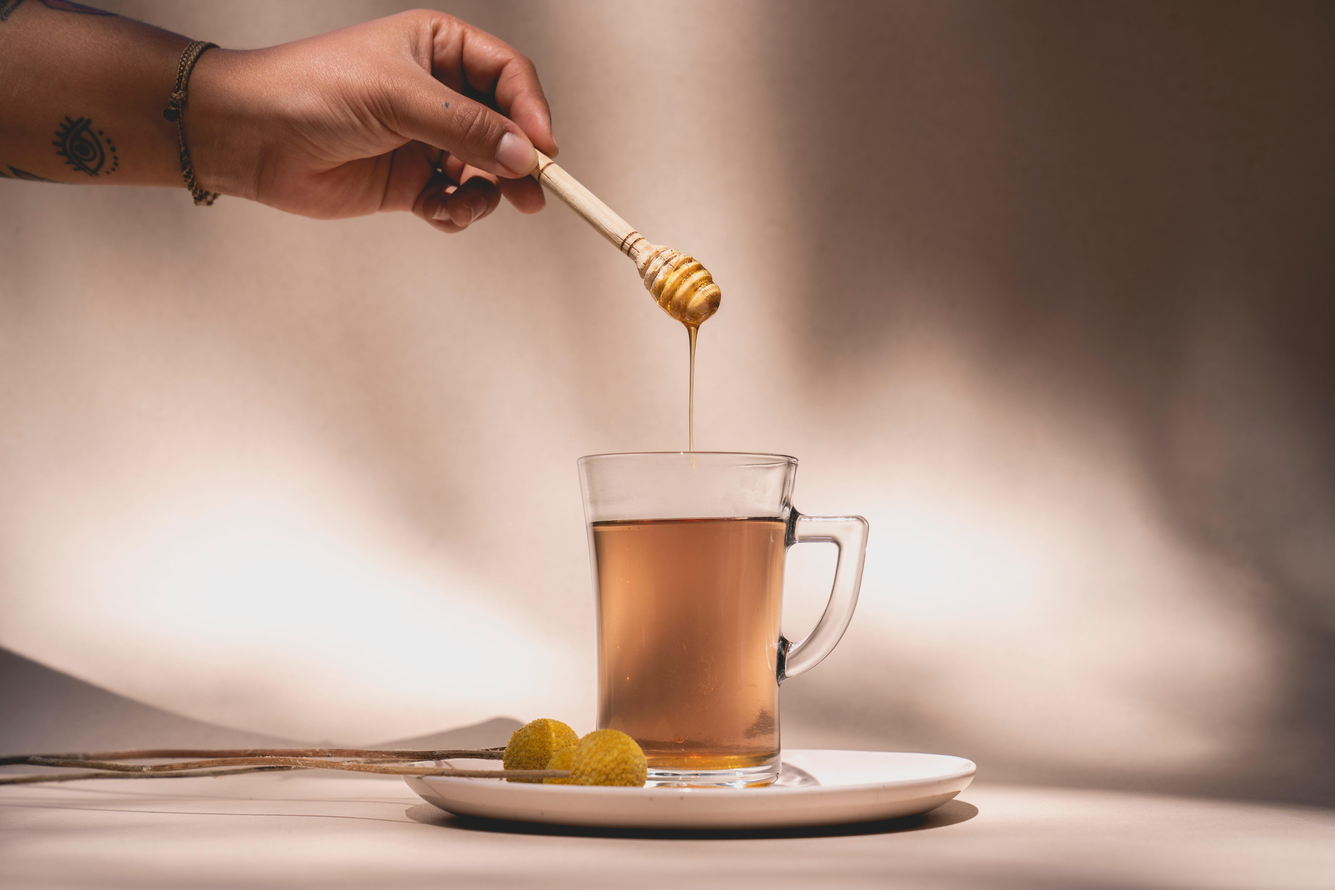glass-mug: (573, 441, 876, 792)
